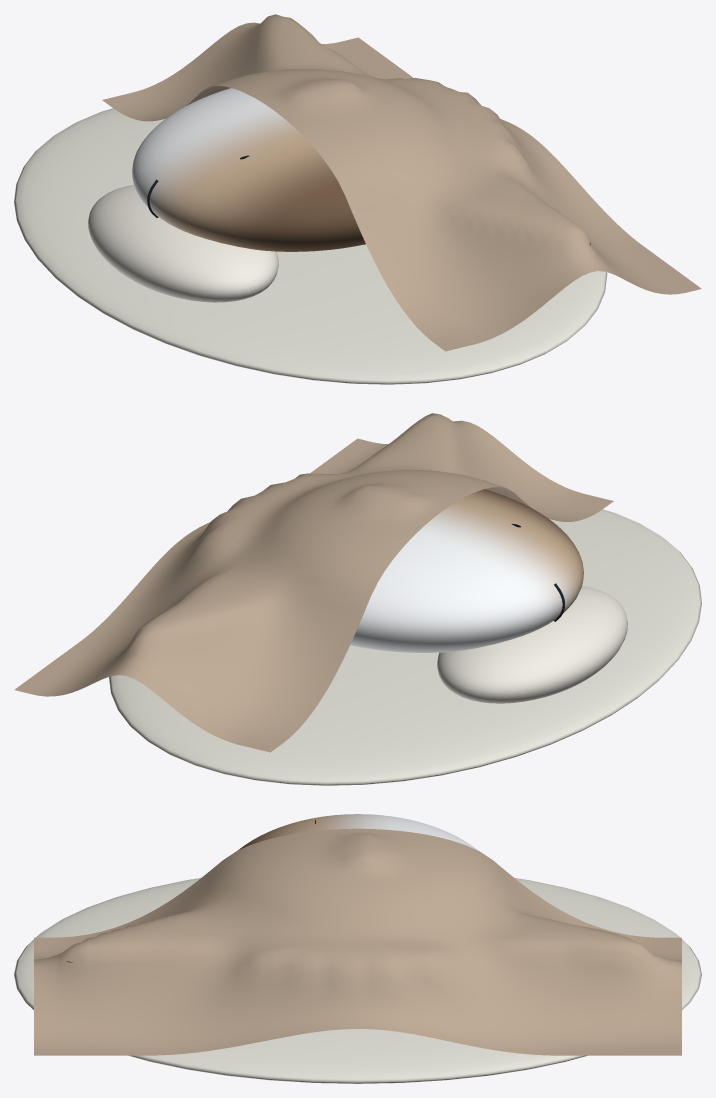
Rendered from covered.glb.
The picture shows the model from 3 angles, top to bottom: view 1: azimuth 30°, elevation 25°; view 2: azimuth 150°, elevation 25°; view 3: azimuth 270°, elevation 25°; orthographic projection. The views are drawn at different scales.
Parts seen in each view (by area): view 1: KiabouBlanket, KiabouBed, KiabouRestBody, KiabouPillow; view 2: KiabouBlanket, KiabouBed, KiabouRestBody, KiabouPillow; view 3: KiabouBlanket, KiabouBed, KiabouRestBody.
Part boxes in pixels (<box>): KiabouBlanket: <box>102,14,701,351</box>; KiabouBed: <box>14,108,607,384</box>; KiabouRestBody: <box>132,88,590,251</box>; KiabouPillow: <box>88,185,278,302</box>; KiabouBlanket: <box>14,413,613,752</box>; KiabouBed: <box>109,509,701,785</box>; KiabouRestBody: <box>350,489,583,652</box>; KiabouPillow: <box>437,586,627,703</box>; KiabouBlanket: <box>34,828,681,1055</box>; KiabouBed: <box>14,878,701,1083</box>; KiabouRestBody: <box>66,814,477,962</box>.
Bounding box in the file's own units: 0.228 × 0.0768 × 0.308.
Materials: 7 (3 with a texture image).
